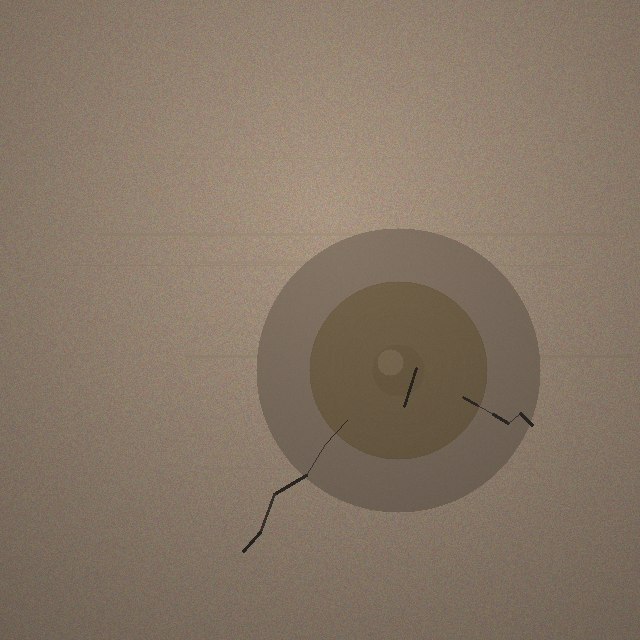crack: (256, 228, 540, 512)
